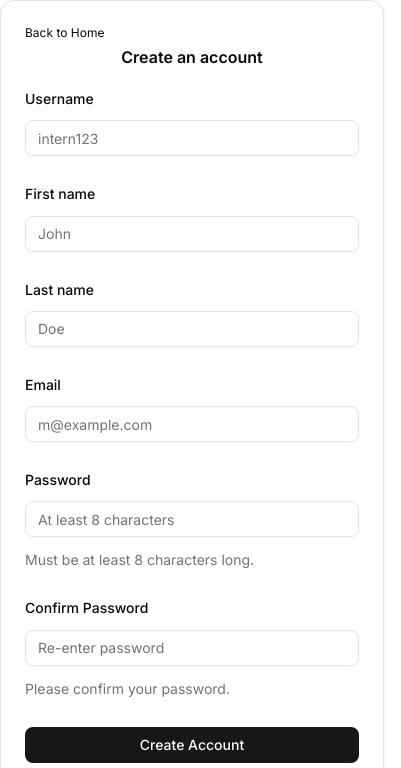
Test: SignupCard › uses generic fallback for unknown signup errors
Type "newuser" into the field labelled "Username" at (192, 138), box [25,120,359,156]
Type "New" into the field labelled "First name" at (192, 234), box [25,216,359,252]
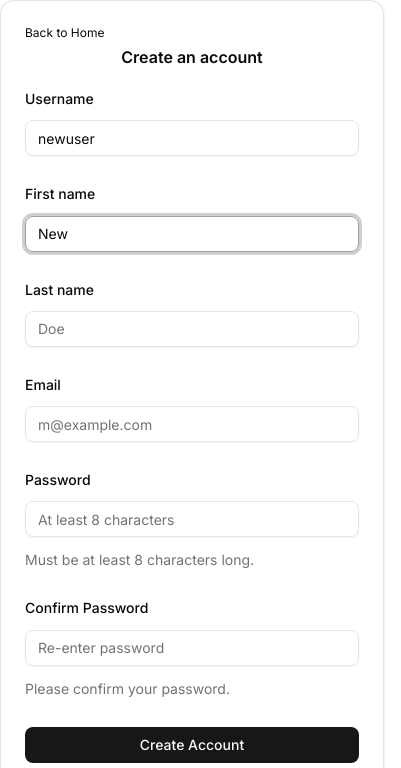
Type "User" into the field labelled "Last name" at (192, 329), box [25,311,359,347]
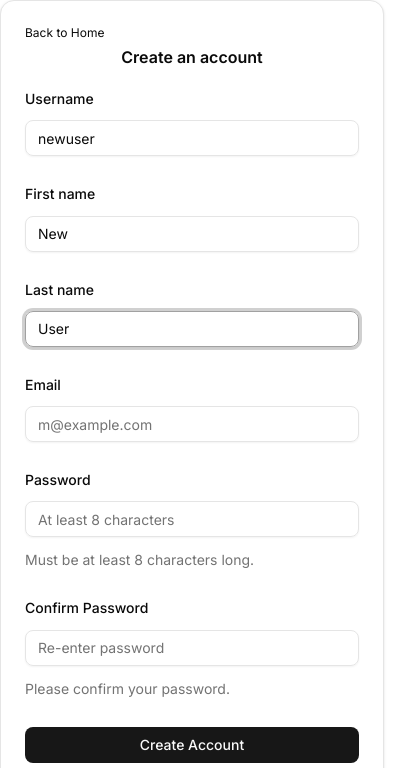
Type "new@example.com" into the field labelled "Email" at (192, 424), box [25,406,359,442]
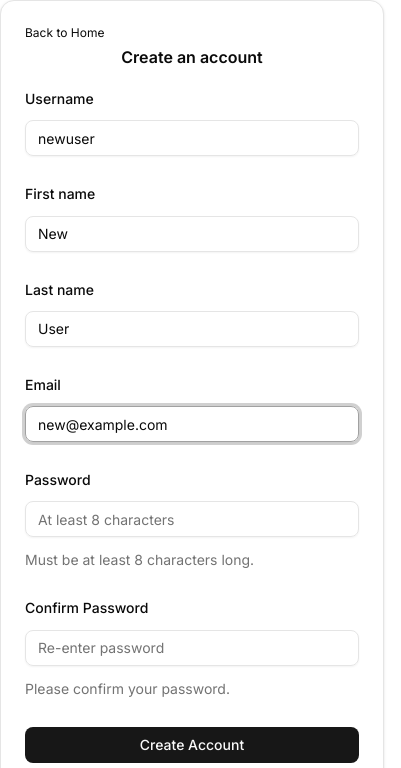
Type "password123" into the password field labelled "Password" at (192, 519), box [25,501,359,537]
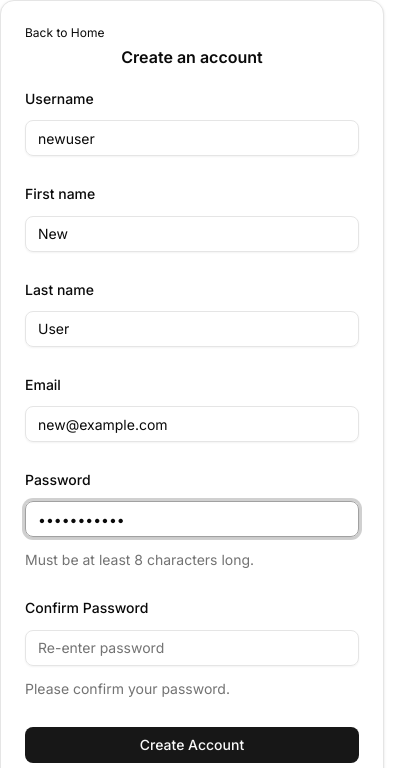
Type "password123" into the password field labelled "Confirm Password" at (192, 648), box [25,630,359,666]
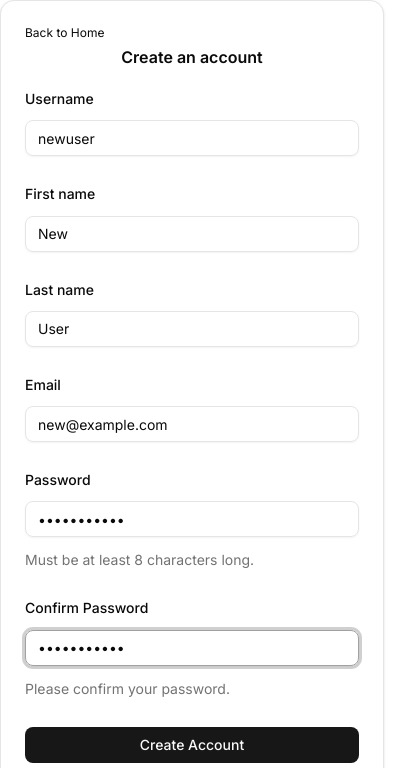
Click the button "Create Account" at (192, 744), box [25,726,359,762]
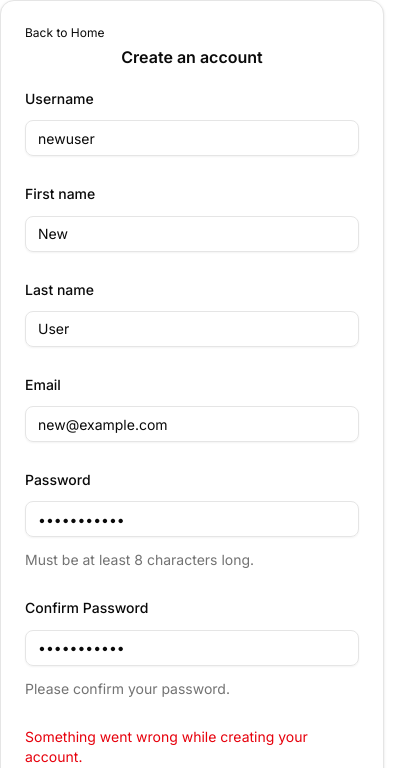
Result: the text "Something went wrong while creating your account." is shown at [25,728,308,764]
